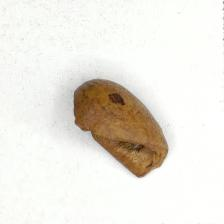NG: (82, 123, 159, 177)
